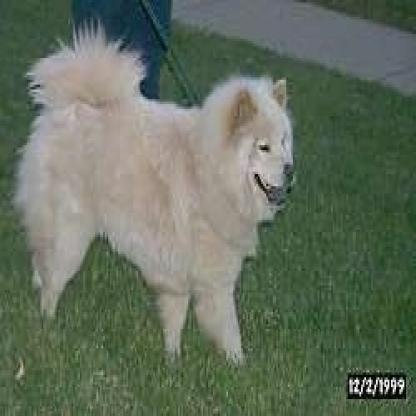Chowchow: (7, 15, 301, 354)
